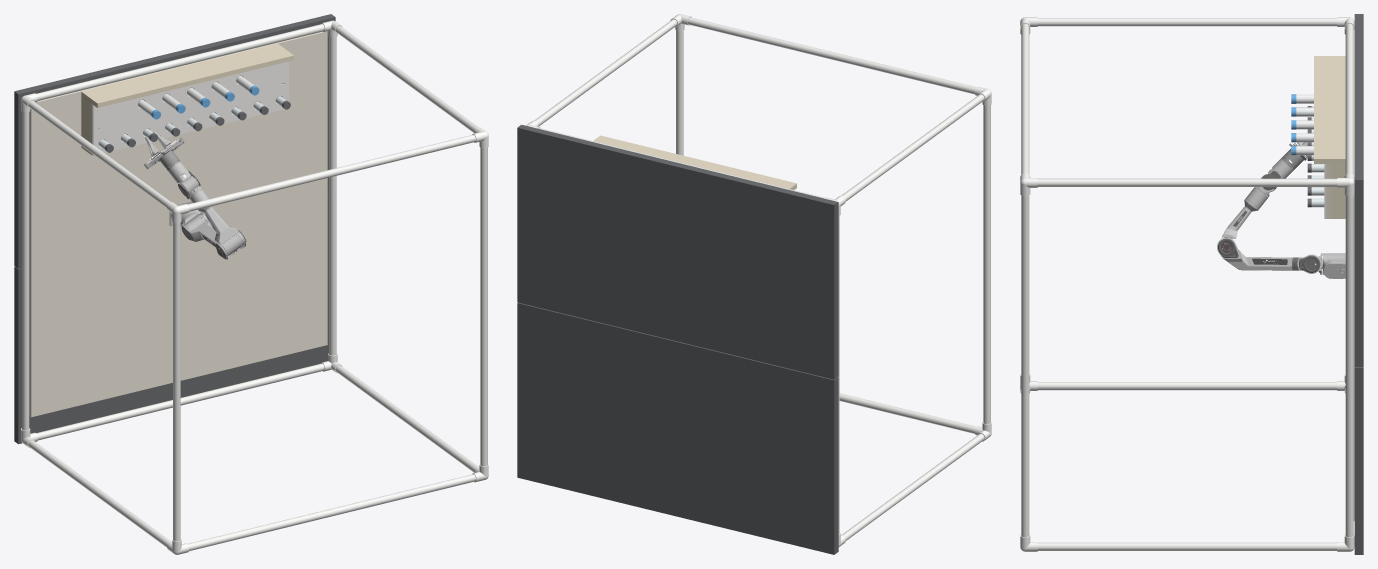
The model's file is shelf.glb.
3 renders of one model, left to right at view 1: azimuth 30°, elevation 25°; view 2: azimuth 150°, elevation 25°; view 3: azimuth 270°, elevation 25°, orthographic. The views are drawn at different scales.
Visible parts, largest first — view 1: arm-plate, nest-plate-6, table--0.68, table-0.00, fence-5, dome-pipe-1289mm-15, dome-pipe-1289mm-12, dome-pipe-1289mm-13, dome-pipe-1289mm-14, dome-pipe-1219mm-9, dome-pipe-1219mm-10, dome-pipe-1219mm-11 (+7 smaller); view 2: table-0.00, table--0.68, dome-pipe-1289mm-13, dome-pipe-1219mm-11, fence-5, dome-pipe-1035mm-16, dome-pipe-1035mm-17, dome-pipe-1035mm-19, dome-pipe-1219mm-9, dome-pipe-1289mm-15, dome-pipe-1289mm-12; view 3: table-0.00, fence-5, dome-pipe-1289mm-15, dome-pipe-1289mm-14, dome-pipe-1035mm-16, dome-pipe-1035mm-17, dome-pipe-1035mm-18, dome-pipe-1035mm-19, table--0.68, dome-pipe-1219mm-11, dome-pipe-1219mm-10, piper-link2-103 (+4 smaller).
Boxes of the visible parts, bbox=[...] form: arm-plate: bbox=[29, 31, 327, 417]; nest-plate-6: bbox=[92, 61, 288, 155]; table--0.68: bbox=[14, 193, 328, 444]; table-0.00: bbox=[14, 14, 335, 268]; fence-5: bbox=[81, 43, 293, 107]; dome-pipe-1289mm-15: bbox=[480, 147, 487, 466]; dome-pipe-1289mm-12: bbox=[22, 112, 29, 430]; dome-pipe-1289mm-13: bbox=[173, 222, 180, 541]; dome-pipe-1289mm-14: bbox=[329, 37, 336, 355]; dome-pipe-1219mm-9: bbox=[187, 474, 475, 551]; dome-pipe-1219mm-10: bbox=[36, 24, 324, 100]; dome-pipe-1219mm-11: bbox=[187, 134, 475, 211]; table-0.00: bbox=[517, 124, 838, 379]; table--0.68: bbox=[517, 302, 838, 554]; dome-pipe-1289mm-13: bbox=[983, 105, 990, 424]; dome-pipe-1219mm-11: bbox=[688, 17, 976, 94]; fence-5: bbox=[593, 135, 796, 189]; dome-pipe-1035mm-16: bbox=[841, 433, 984, 540]; dome-pipe-1035mm-17: bbox=[841, 94, 984, 201]; dome-pipe-1035mm-19: bbox=[534, 19, 677, 126]; dome-pipe-1219mm-9: bbox=[839, 393, 976, 433]; dome-pipe-1289mm-15: bbox=[676, 30, 683, 155]; dome-pipe-1289mm-12: bbox=[838, 216, 839, 533]; table-0.00: bbox=[1354, 14, 1363, 366]; fence-5: bbox=[1314, 56, 1345, 163]; dome-pipe-1289mm-15: bbox=[1021, 195, 1029, 537]; dome-pipe-1289mm-14: bbox=[1345, 195, 1353, 537]; dome-pipe-1035mm-16: bbox=[1037, 382, 1337, 390]; dome-pipe-1035mm-17: bbox=[1037, 18, 1337, 26]; dome-pipe-1035mm-18: bbox=[1037, 542, 1337, 550]; dome-pipe-1035mm-19: bbox=[1037, 178, 1337, 186]; table--0.68: bbox=[1354, 367, 1363, 554]; dome-pipe-1219mm-11: bbox=[1021, 23, 1029, 174]; dome-pipe-1219mm-10: bbox=[1345, 23, 1353, 174]; piper-link2-103: bbox=[1217, 237, 1321, 273].
Size of the model in its own units: 1.29 by 1.36 by 1.13.
